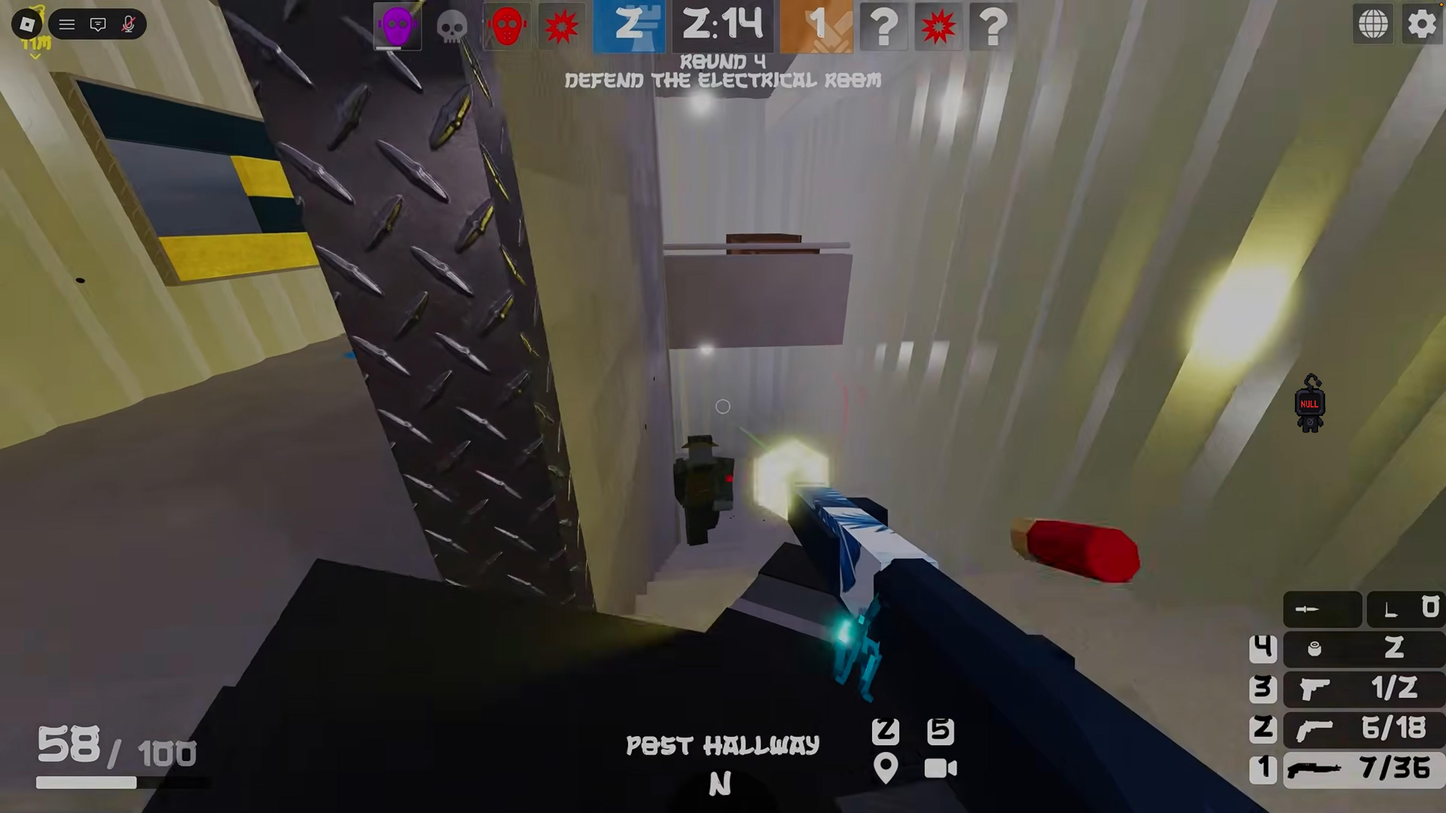enemy: (665, 427, 739, 555)
